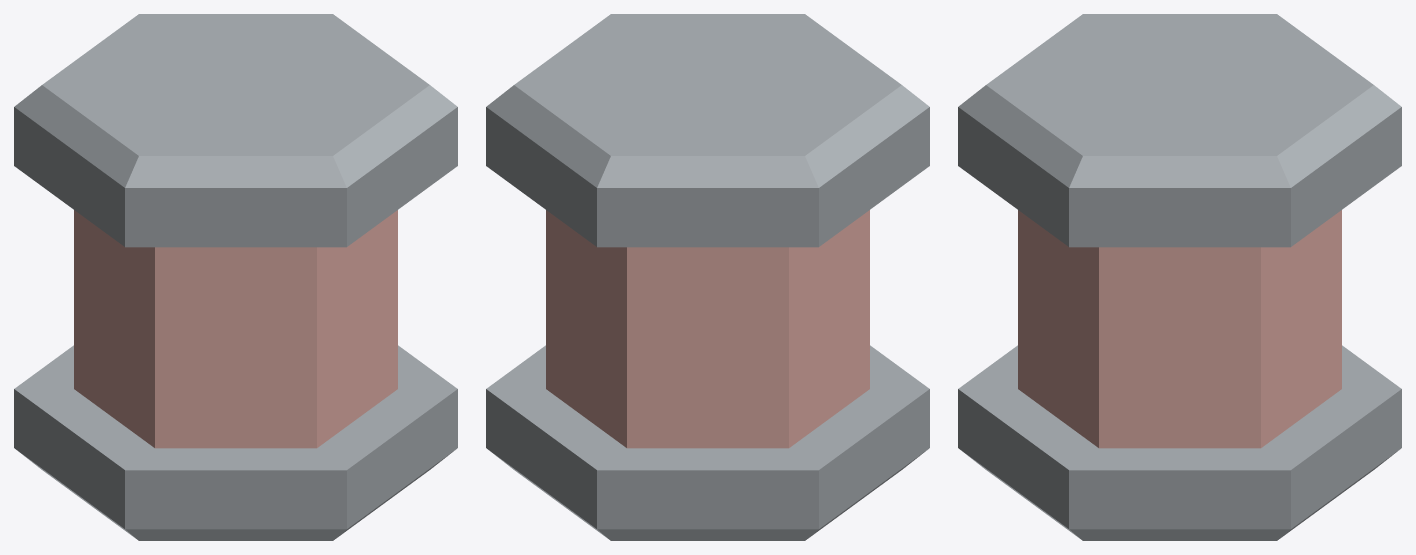
Rendered from AlarmeCentral.fbx.
3 renders of one model, left to right at view 1: azimuth 30°, elevation 25°; view 2: azimuth 150°, elevation 25°; view 3: azimuth 270°, elevation 25°, orthographic.
Visible parts, largest first — view 1: Alarme; view 2: Alarme; view 3: Alarme.
Part boxes in pixels (x1=…): Alarme: x1=14, y1=14, x2=457, y2=540; Alarme: x1=486, y1=14, x2=929, y2=540; Alarme: x1=958, y1=14, x2=1401, y2=540.
Size of the model in its own units: 24.42 by 26.99 by 28.19.
